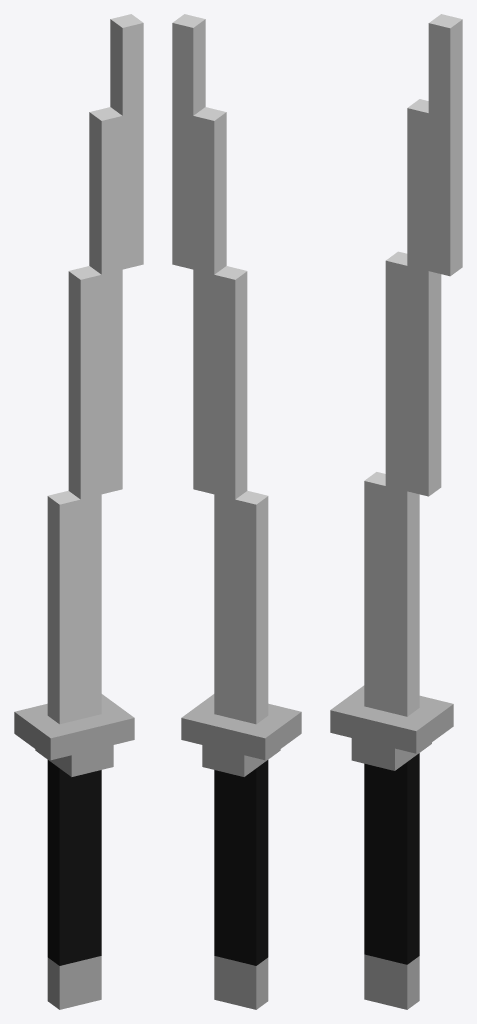
The model's file is weapon_sword_katana.obj.
3 renders of one model, left to right at view 1: azimuth 30°, elevation 25°; view 2: azimuth 150°, elevation 25°; view 3: azimuth 330°, elevation 25°, orthographic. The views are drawn at different scales.
Size of the model in its own units: 0.5 by 4.4 by 0.3.
Materials: 1 (1 with a texture image).
